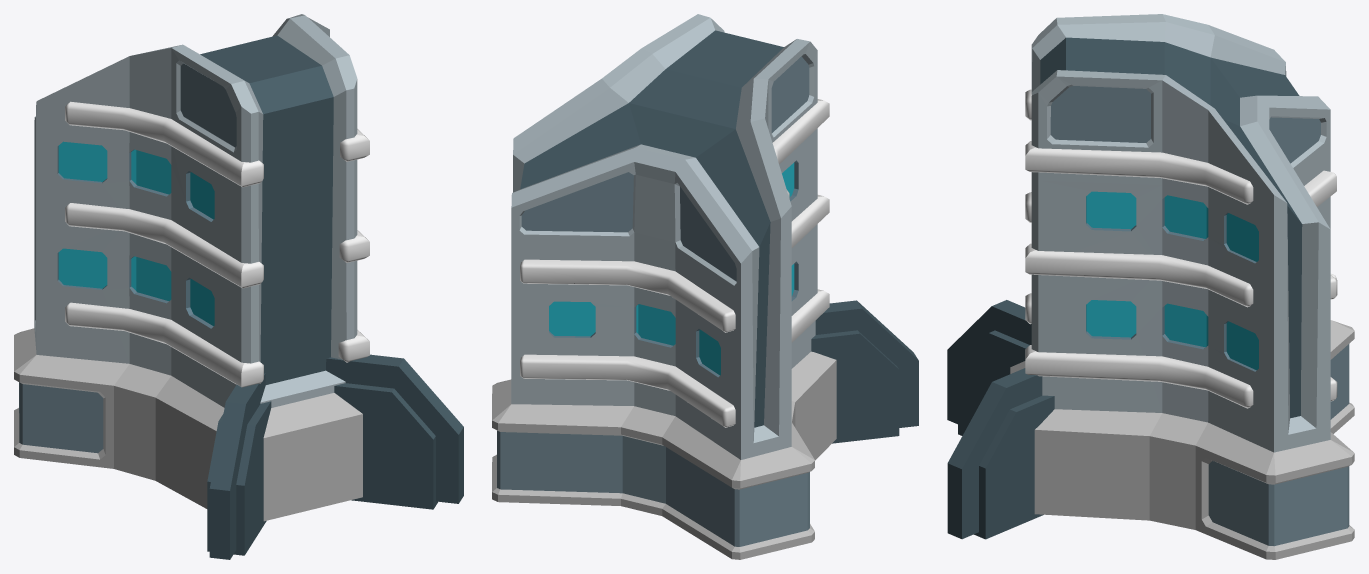
The model's file is building_003.fbx.
The picture shows the model from 3 angles, left to right: view 1: azimuth 30°, elevation 25°; view 2: azimuth 150°, elevation 25°; view 3: azimuth 270°, elevation 25°; orthographic projection. The views are drawn at different scales.
Parts seen in each view (by area): view 1: building_003; view 2: building_003; view 3: building_003.
Part boxes in pixels (x1=…): building_003: x1=14, y1=14, x2=463, y2=559; building_003: x1=492, y1=14, x2=918, y2=559; building_003: x1=947, y1=14, x2=1354, y2=559.
Bounding box in the file's own units: 1593 × 1643 × 1930.
